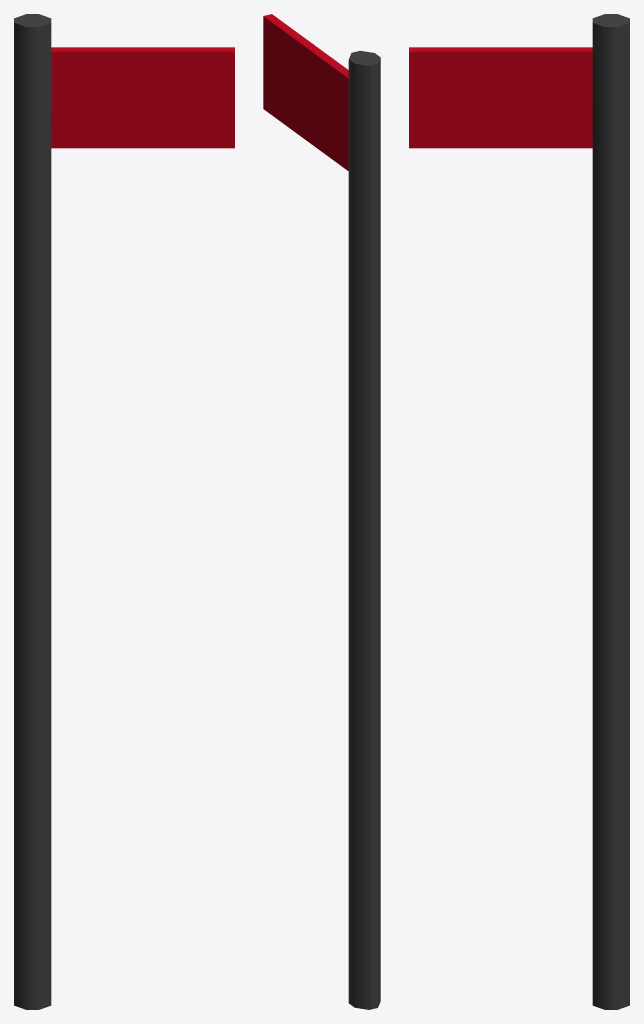
Rendered from Hoyo Palo 1.fbx.
3 views of the same model, side by side, from view 1: azimuth 90°, elevation 25°; view 2: azimuth 210°, elevation 25°; view 3: azimuth 270°, elevation 25° (orthographic). The views are drawn at different scales.
Parts seen in each view (by area): view 1: pCube8; view 2: pCube8; view 3: pCube8.
Part boxes in pixels (x1,y1,x2,y2): pCube8: (14,14,234,1009); pCube8: (263,14,380,1009); pCube8: (409,14,629,1009).
Size of the model in its own units: 20.69 by 722 by 147.
